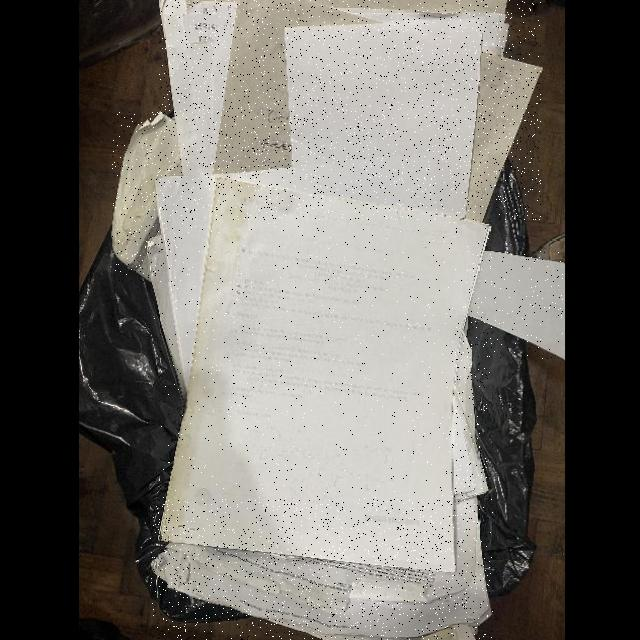paper: (161, 178, 490, 575), (160, 0, 541, 220), (150, 499, 493, 640), (285, 20, 482, 218), (112, 112, 184, 282), (469, 251, 564, 360), (453, 334, 488, 502)
